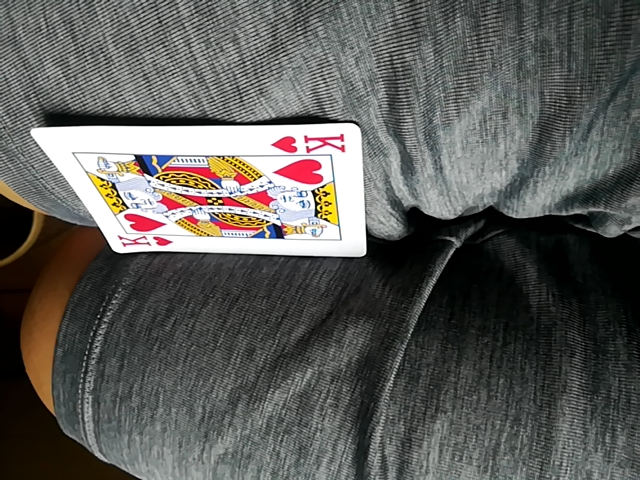hx k: (39, 124, 366, 258)
